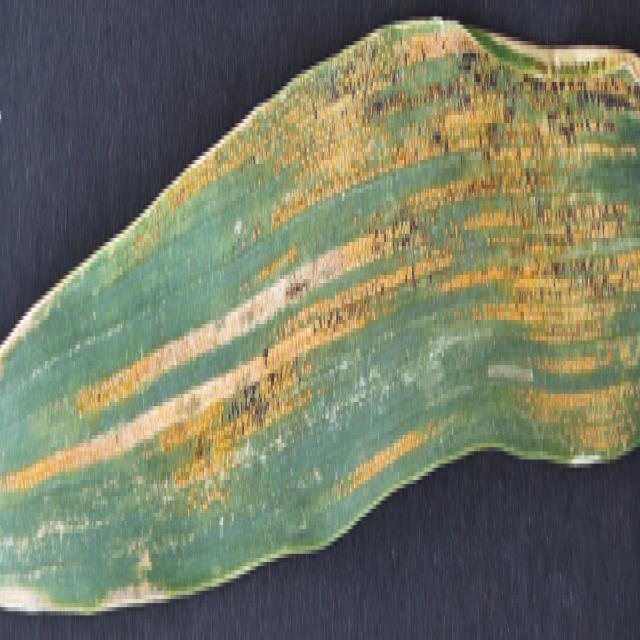leaf rust: (1, 37, 638, 640)
